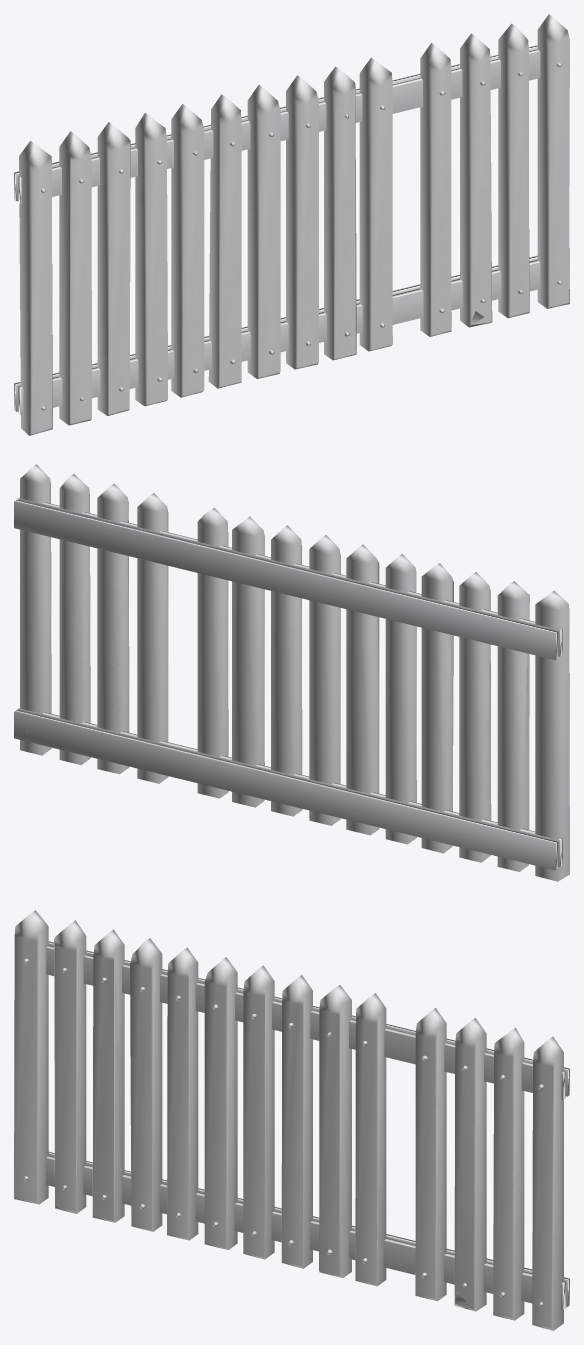
File: prp_picket_fence.glb
3 renders of one model, top to bottom at view 1: azimuth 30°, elevation 25°; view 2: azimuth 150°, elevation 25°; view 3: azimuth 330°, elevation 25°, orthographic.
Size of the model in its own units: 0.9575 by 0.4819 by 0.0532.
1 material, 1 textured.
